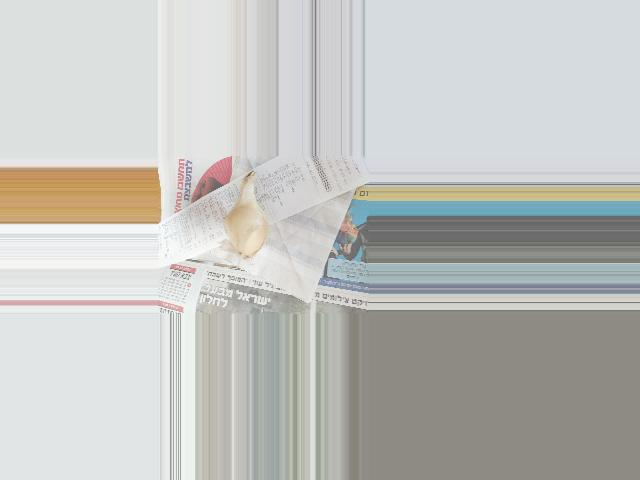onion: (227, 192, 267, 254)
